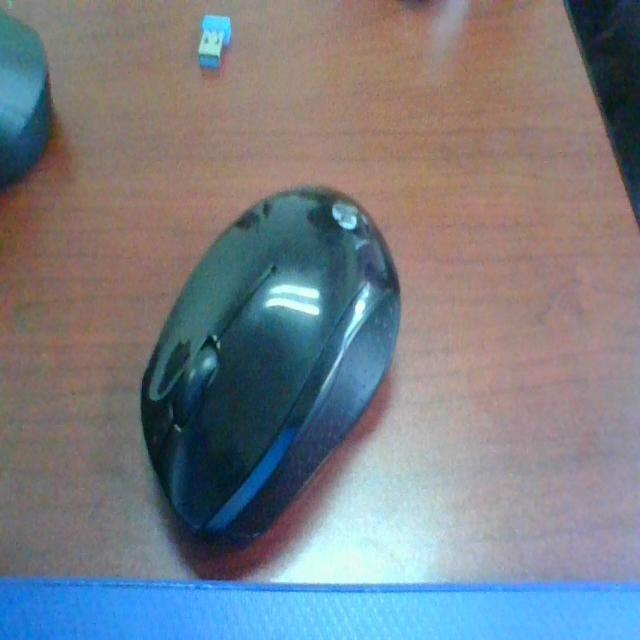Mouse: (144, 145, 424, 594)
